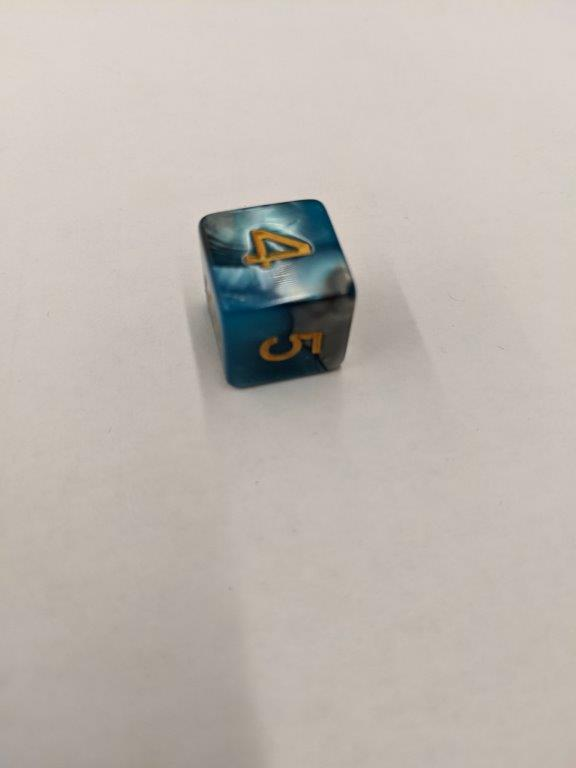d6-4: (202, 199, 359, 390)
